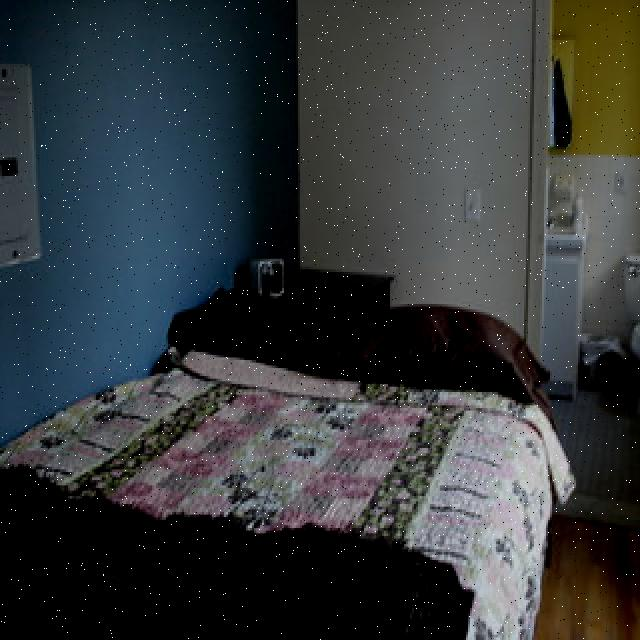bed: (0, 294, 556, 638)
